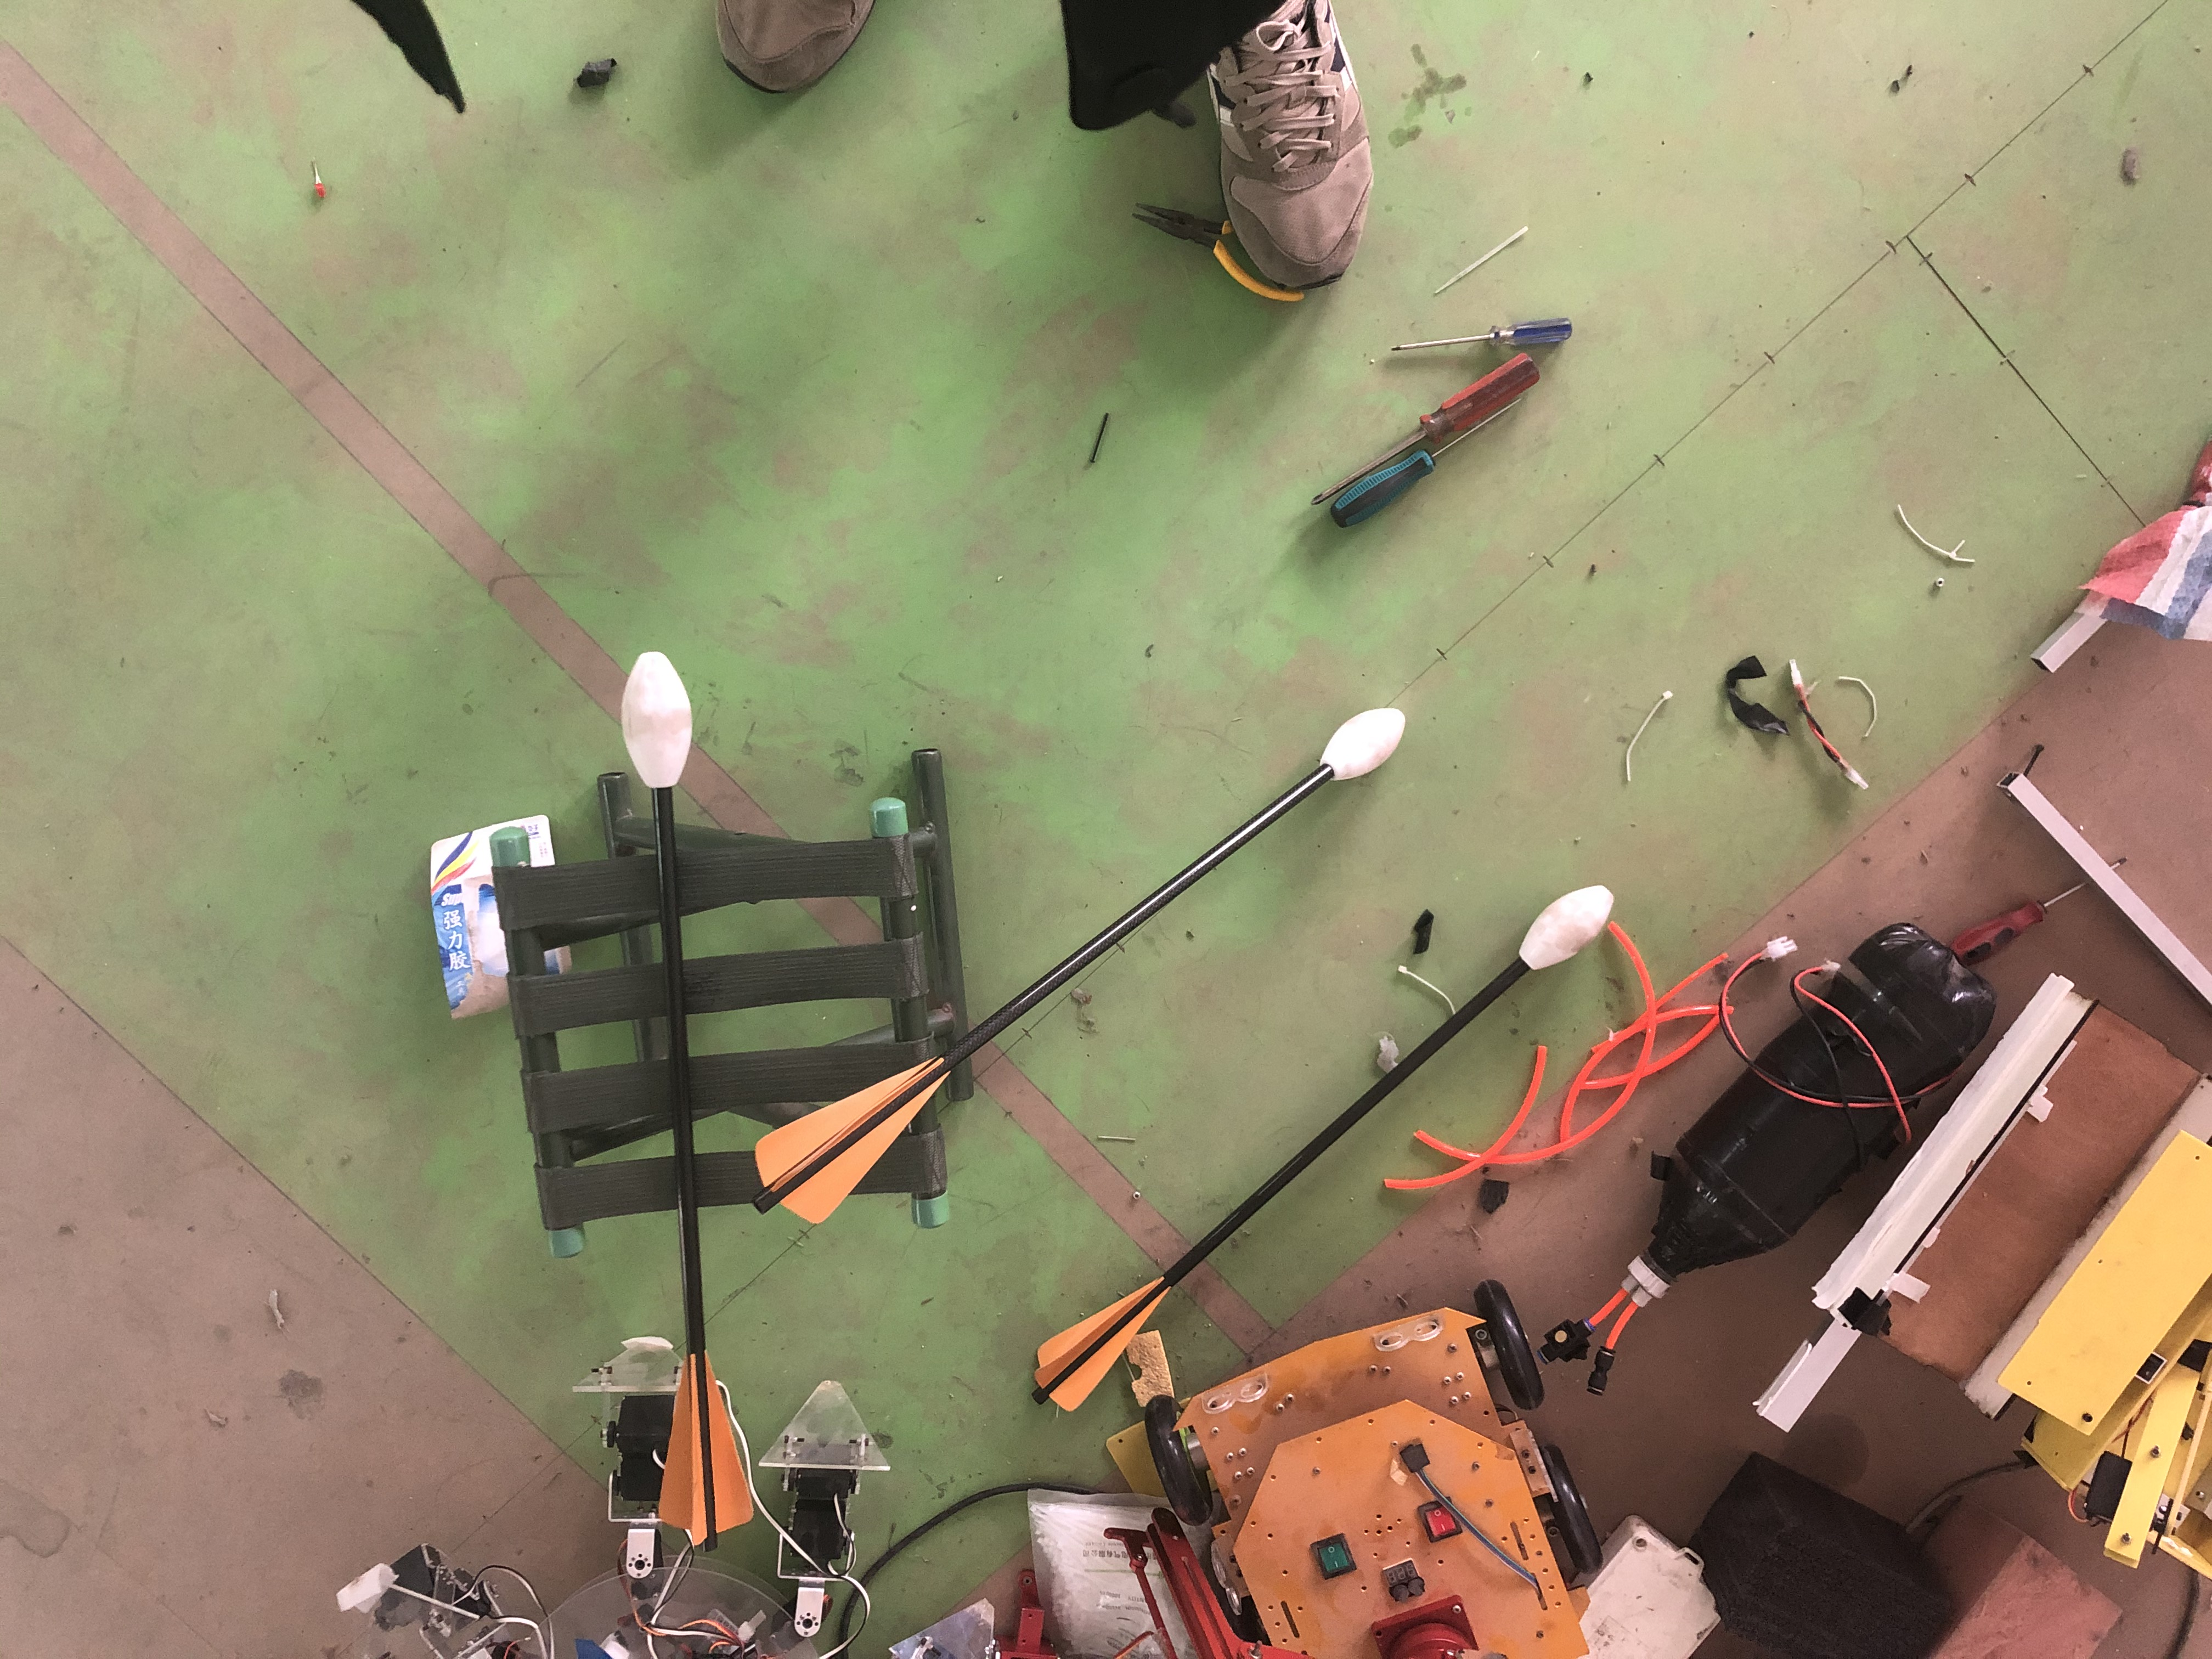arrow: (752, 695, 1413, 1223), (1029, 884, 1632, 1413), (618, 647, 754, 1547)
arrowFront: (615, 645, 691, 795), (1510, 885, 1618, 969), (1312, 706, 1409, 782)
